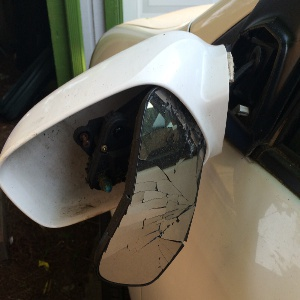side_mirror: (14, 44, 231, 289)
